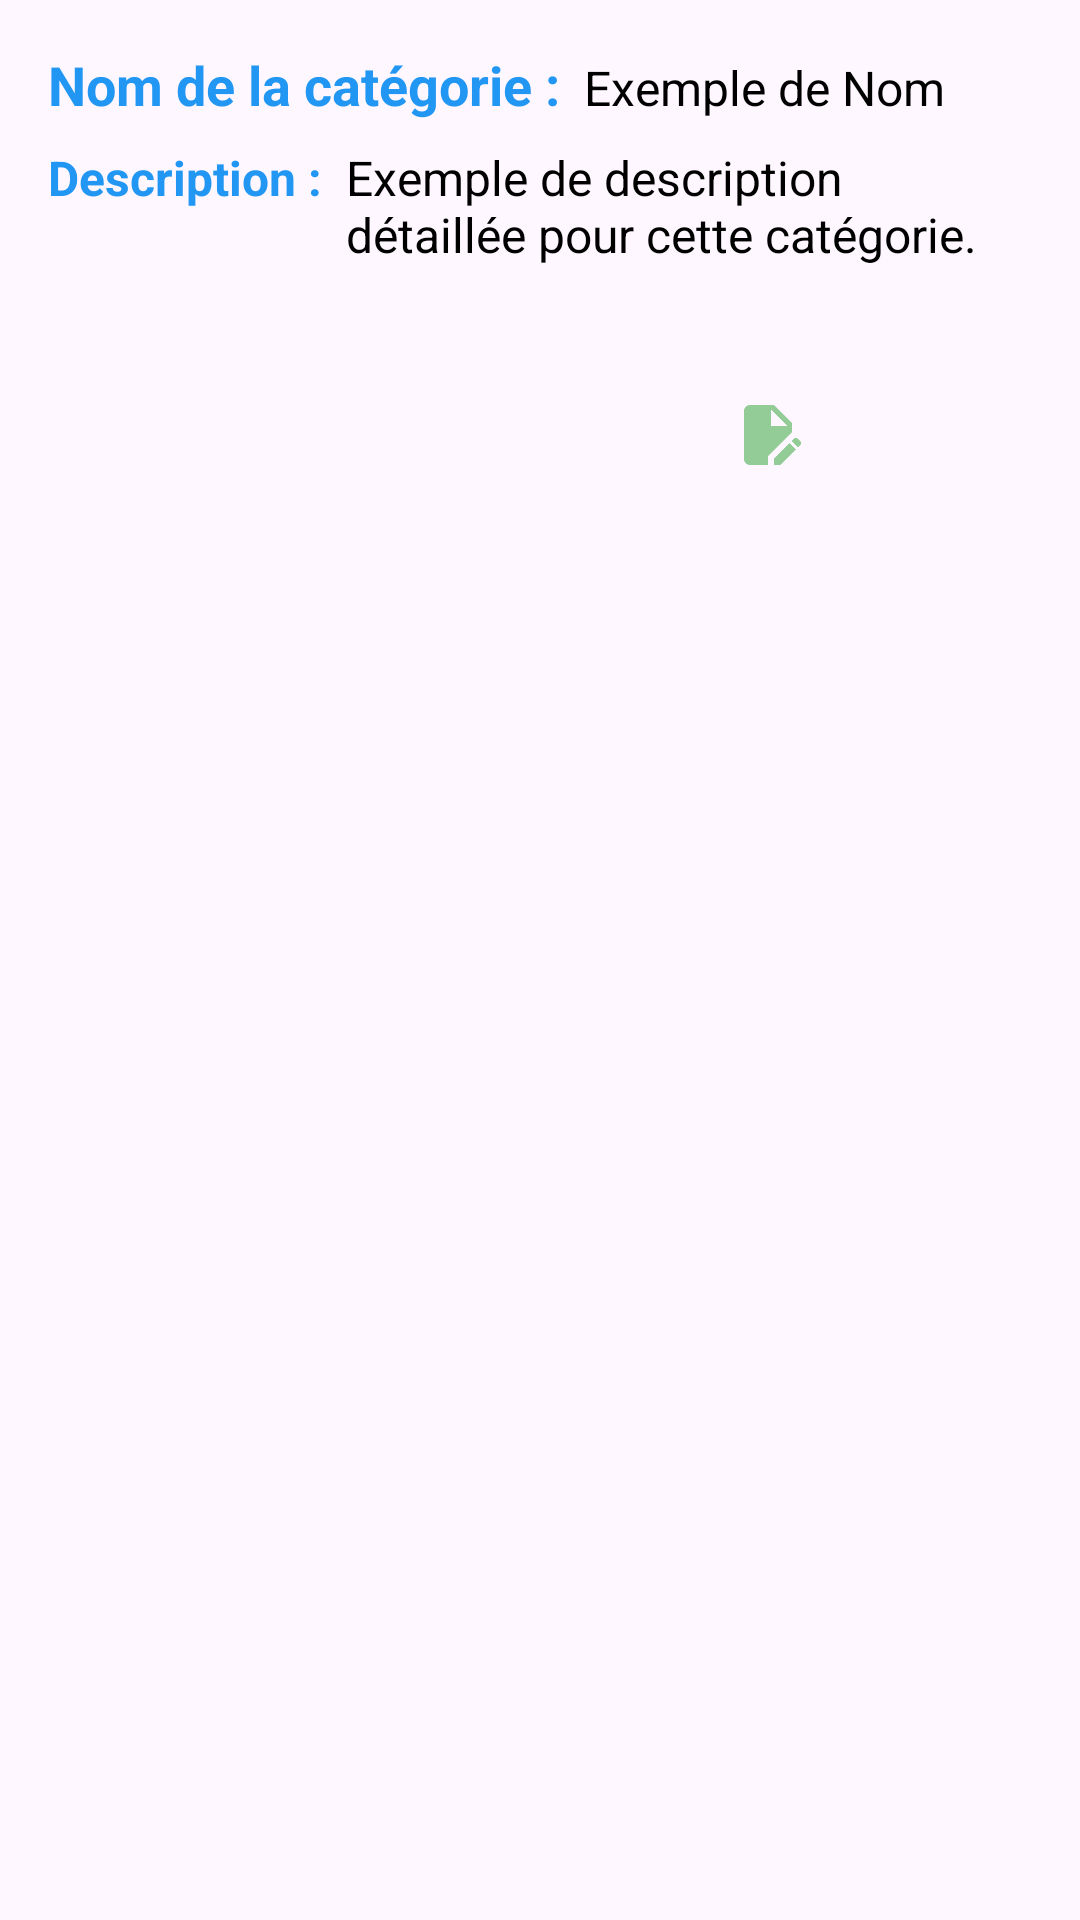

Point at icon controls on the screen. Image size 1080px×1920px, points as (x,y).
Modifier: (772,435)
